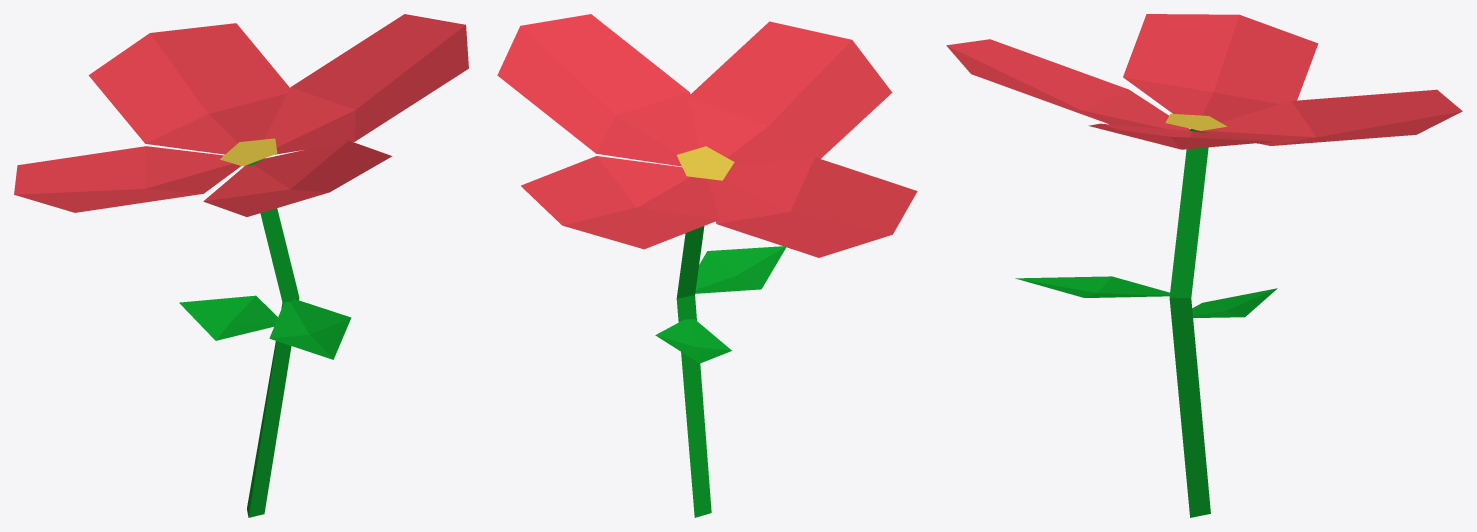
The model's file is Flower.fbx.
3 views of the same model, side by side, from view 1: azimuth 30°, elevation 25°; view 2: azimuth 150°, elevation 25°; view 3: azimuth 270°, elevation 25° (orthographic). The views are drawn at different scales.
Parts seen in each view (by area): view 1: petal 4, petal 2, petal 3, petal 1, stem, leaf 1, leaf 2, centre bud; view 2: petal 1, petal 2, petal 3, petal 4, stem, leaf 1, leaf 2, centre bud; view 3: petal 3, petal 4, stem, petal 1, leaf 1, petal 2, leaf 2, centre bud.
Boxes of the visible parts, x1,y1,x2,y2 form: petal 4: [88, 23, 289, 154]; petal 2: [264, 14, 468, 154]; petal 3: [14, 146, 240, 212]; petal 1: [203, 140, 392, 216]; stem: [247, 158, 299, 517]; leaf 1: [269, 299, 351, 359]; leaf 2: [179, 295, 277, 340]; centre bud: [220, 138, 277, 166]; petal 1: [687, 21, 892, 167]; petal 2: [497, 14, 698, 166]; petal 3: [707, 157, 917, 257]; petal 4: [521, 156, 720, 249]; stem: [676, 226, 711, 517]; leaf 1: [695, 246, 785, 293]; leaf 2: [655, 319, 731, 363]; centre bud: [676, 146, 734, 180]; petal 3: [1123, 14, 1318, 122]; petal 4: [1195, 89, 1462, 145]; stem: [1169, 129, 1210, 517]; petal 1: [946, 39, 1189, 130]; leaf 1: [1015, 276, 1169, 297]; petal 2: [1088, 123, 1272, 149]; leaf 2: [1192, 288, 1277, 317]; centre bud: [1165, 113, 1226, 130].
Size of the model in its own units: 420 by 429 by 417.
